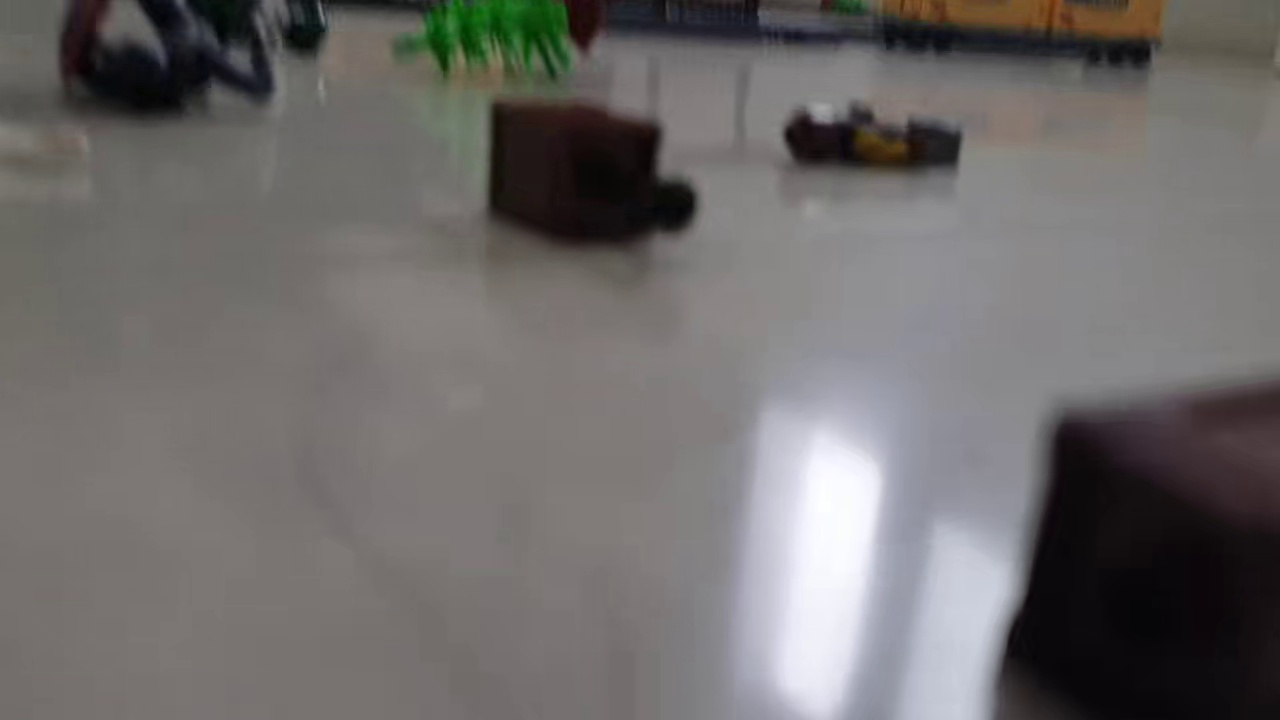box: (997, 362, 1280, 720), (477, 96, 704, 249)
people: (56, 1, 325, 120), (783, 96, 963, 173)
tree: (391, 1, 602, 82)
